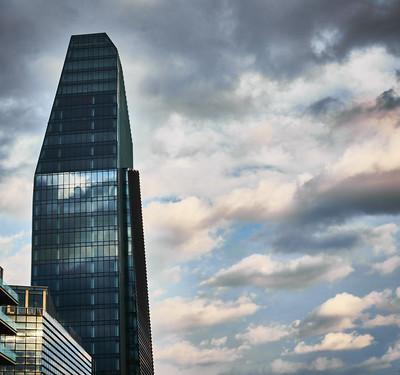building: (26, 32, 158, 374)
